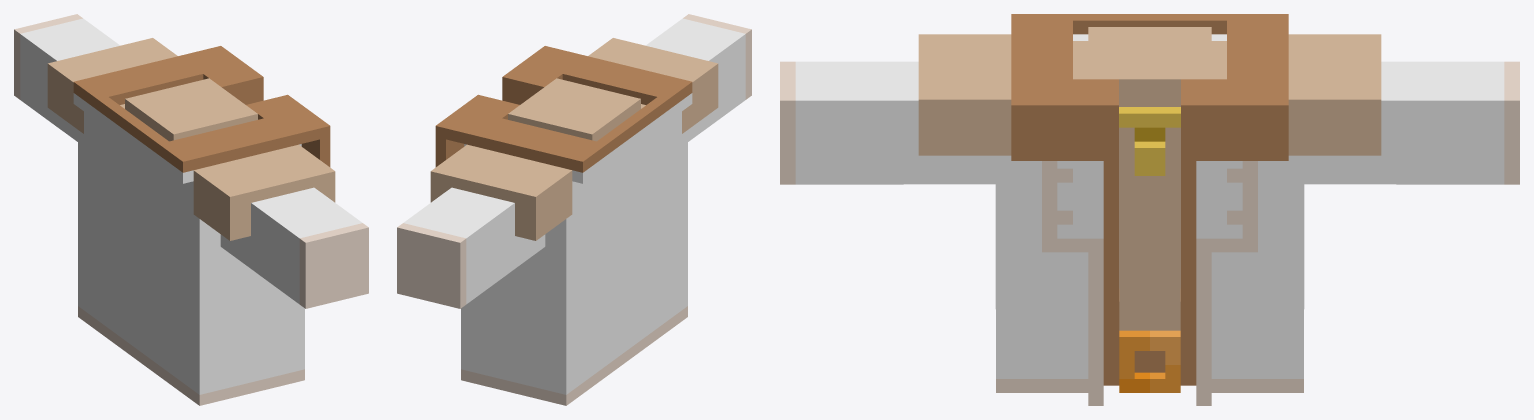
Rendered from av_top_strap.glb.
The picture shows the model from 3 angles, left to right: view 1: azimuth 30°, elevation 25°; view 2: azimuth 150°, elevation 25°; view 3: azimuth 270°, elevation 25°; orthographic projection. The views are drawn at different scales.
Parts seen in each view (by area): view 1: model-5.001; view 2: model-5.001; view 3: model-5.001.
Boxes of the visible parts, x1,y1,x2,y2 form: model-5.001: (14,14,368,405); model-5.001: (397,14,751,405); model-5.001: (780,14,1519,405).
Size of the model in its own units: 0.1401 by 0.2201 by 0.4801.
Materials: 1 (1 with a texture image).
